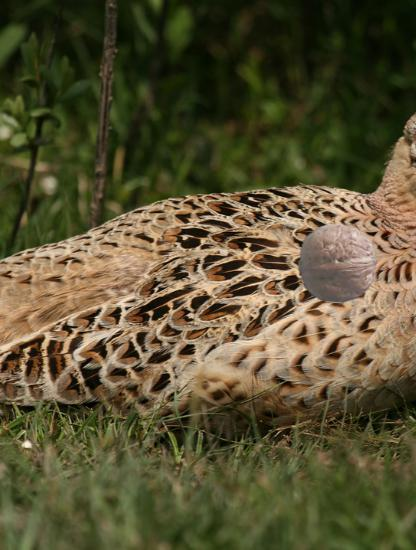Walnut: (297, 222, 379, 304)
